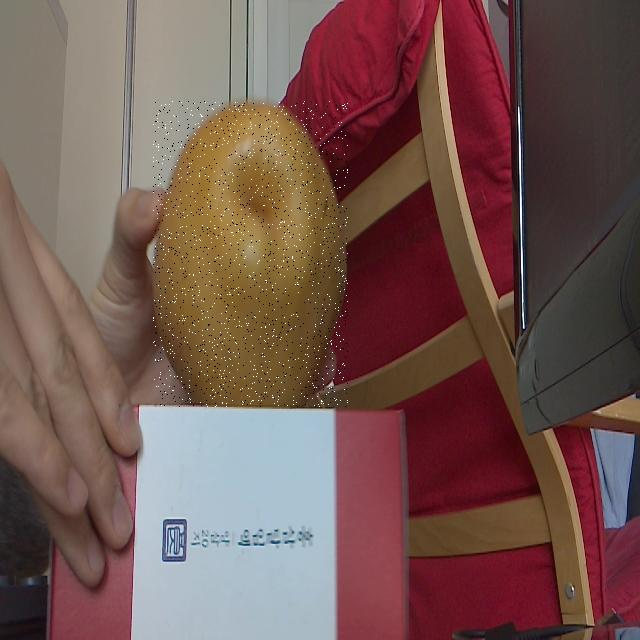pear: (153, 101, 348, 407)
